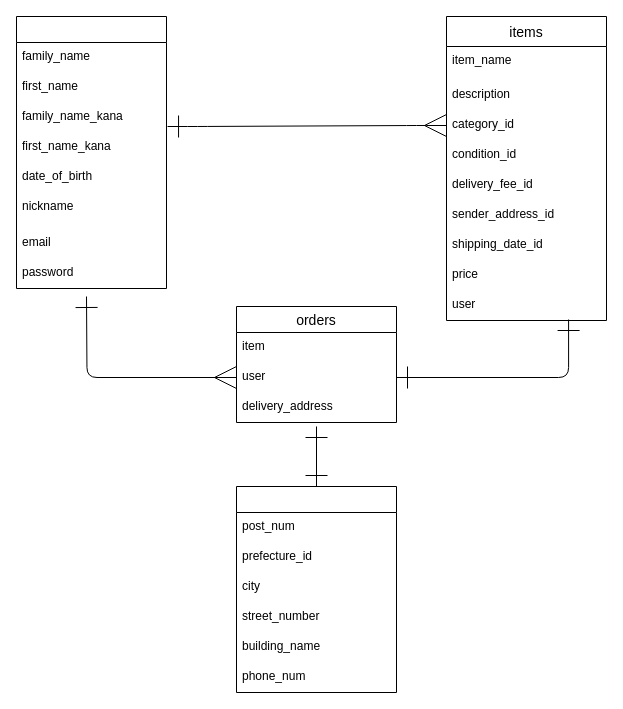
This 623x709 diagram has some shape labels left out. The shapes that lost their labels are listed below. From the top down, each one's box as (x1, y1, x2, y2) in pixels, then its label:
(16, 16, 166, 288): users
(236, 486, 396, 692): delivery_addresses
